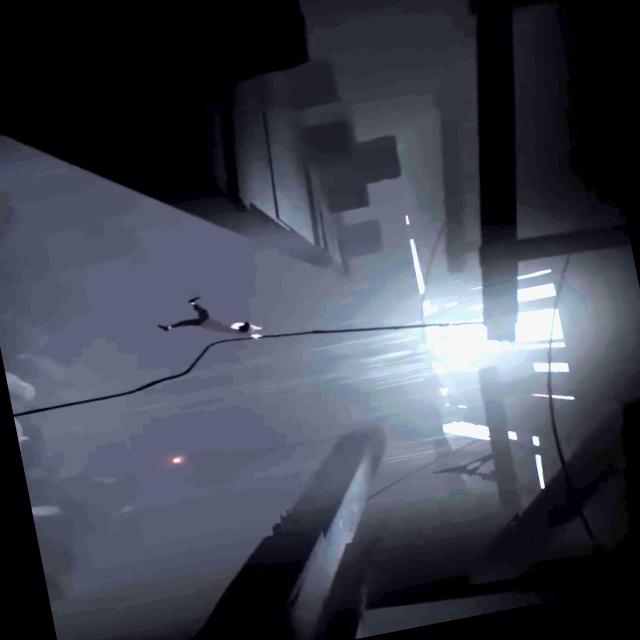boy: (152, 286, 255, 348)
